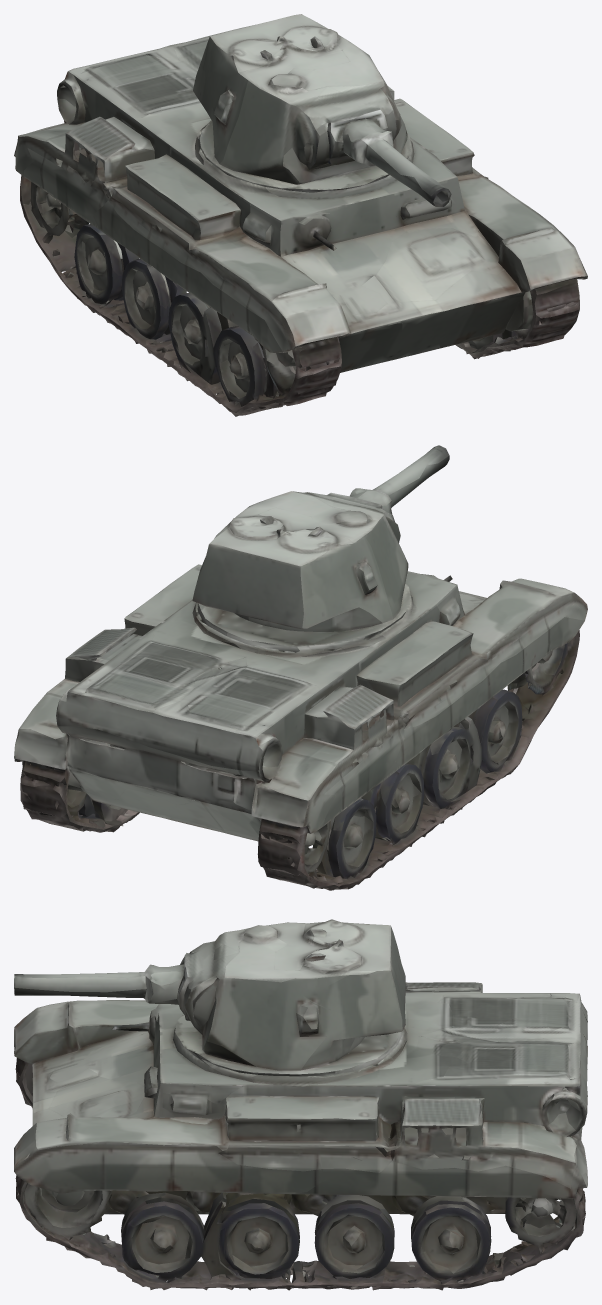
The model's file is land_light_v3_parts.glb.
3 renders of one model, top to bottom at view 1: azimuth 30°, elevation 25°; view 2: azimuth 150°, elevation 25°; view 3: azimuth 270°, elevation 25°, orthographic.
Bounding box in the file's own units: 8.5 × 7.52 × 13.76.
Materials: 7 (7 with a texture image).
